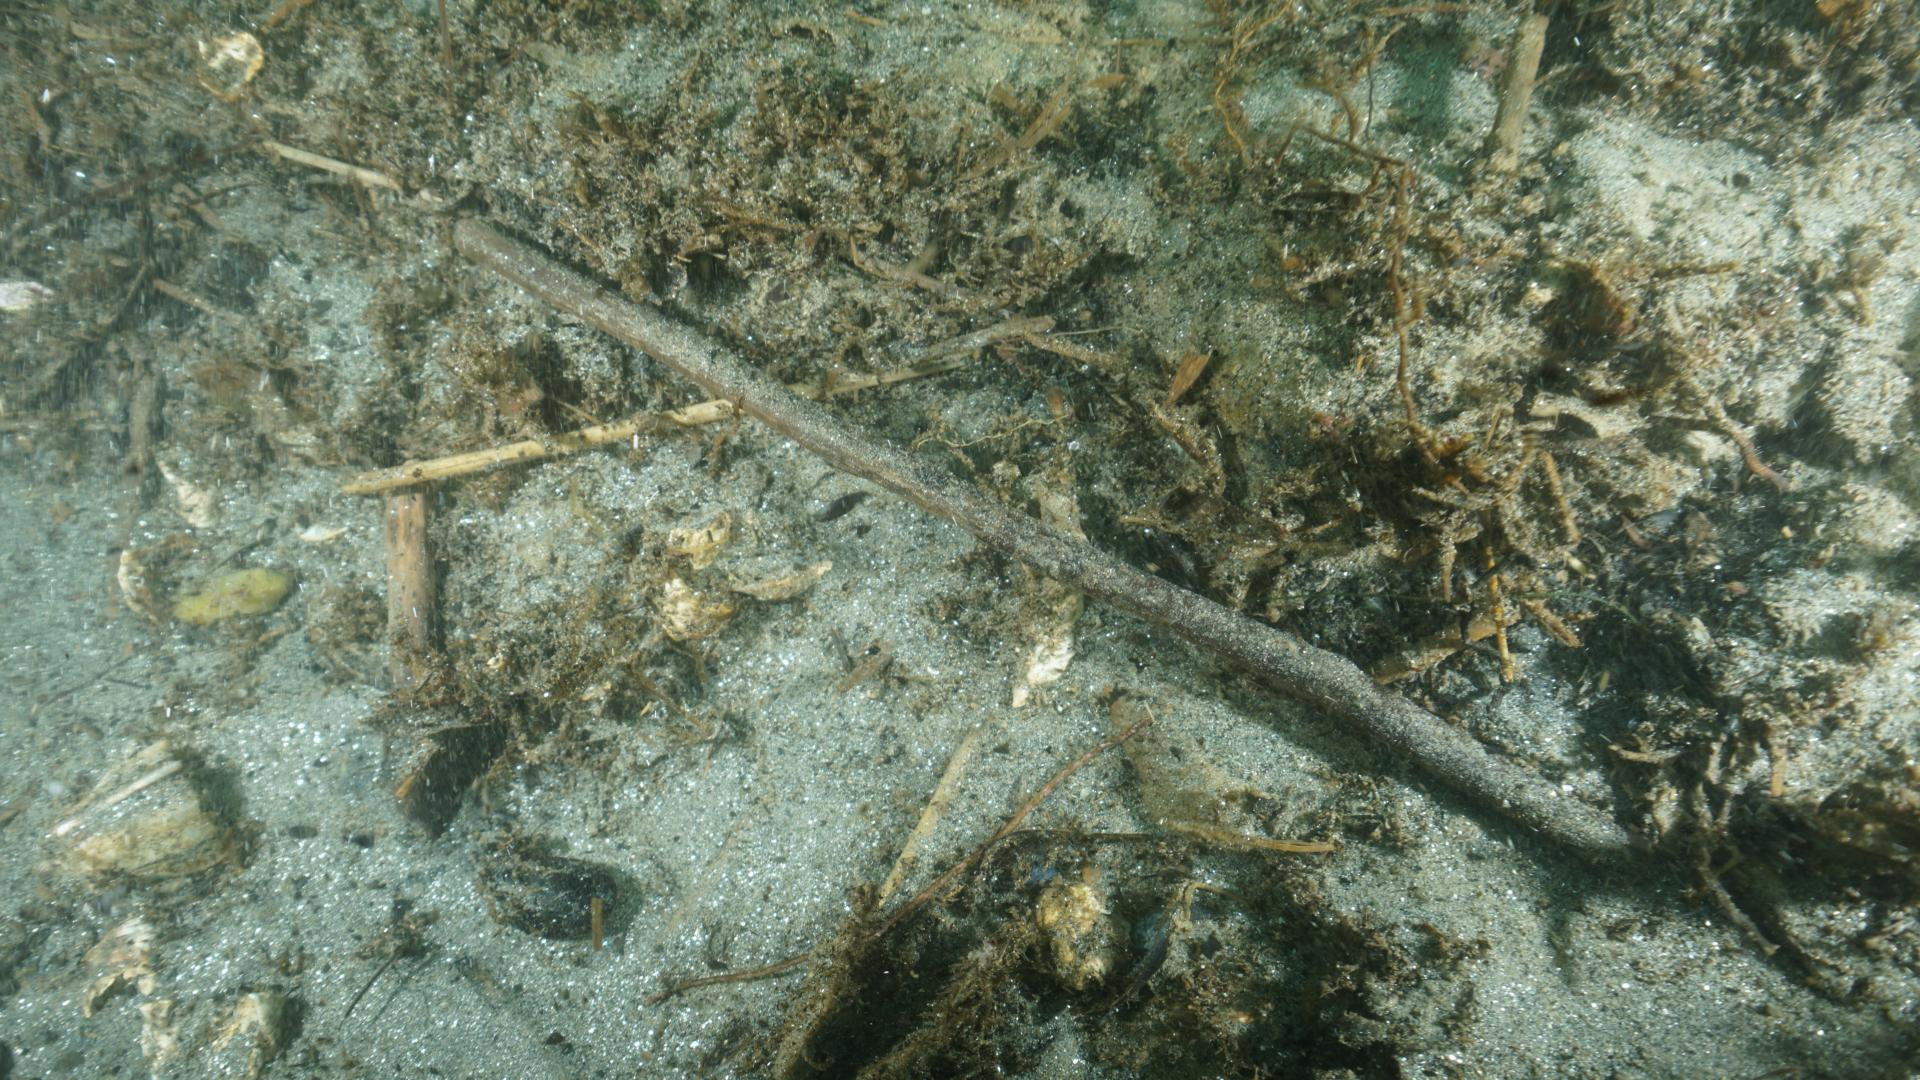wood: (448, 215, 1635, 872)
